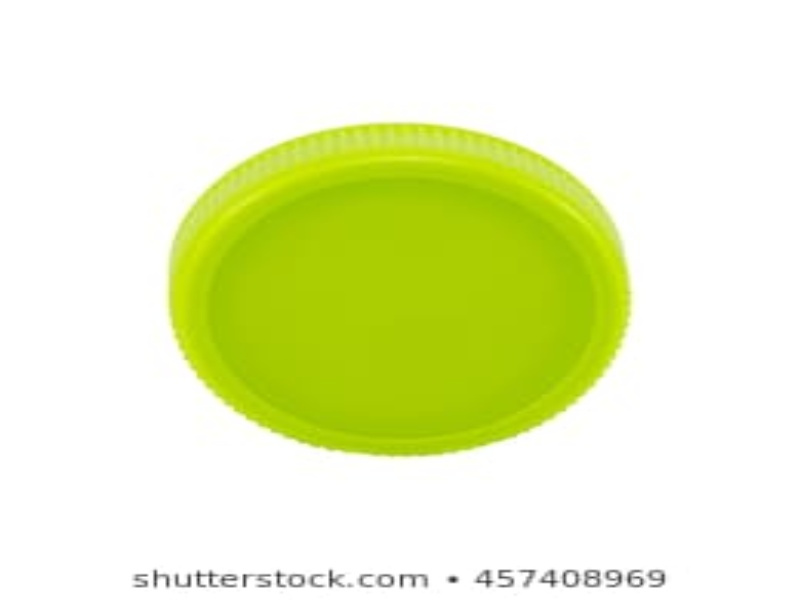bottle-cap: (166, 119, 633, 456)
